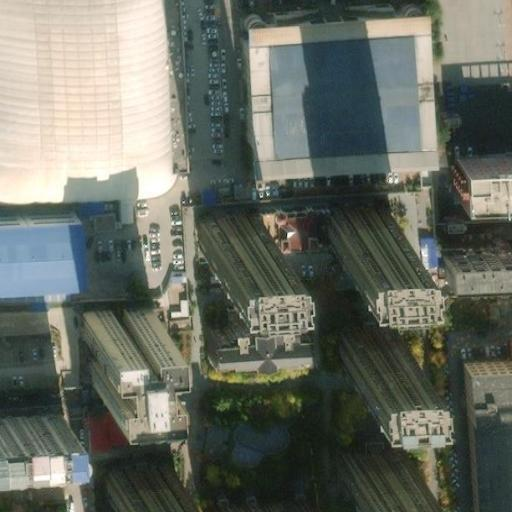building: (237, 0, 429, 157), (0, 189, 69, 258), (75, 305, 140, 378), (456, 423, 509, 512), (454, 367, 512, 425), (197, 485, 314, 512), (200, 317, 298, 348), (451, 147, 512, 193), (437, 236, 512, 273), (329, 209, 394, 250), (337, 340, 402, 381), (341, 443, 406, 484), (192, 209, 256, 250), (102, 474, 167, 512), (0, 413, 56, 444), (0, 306, 47, 334)
